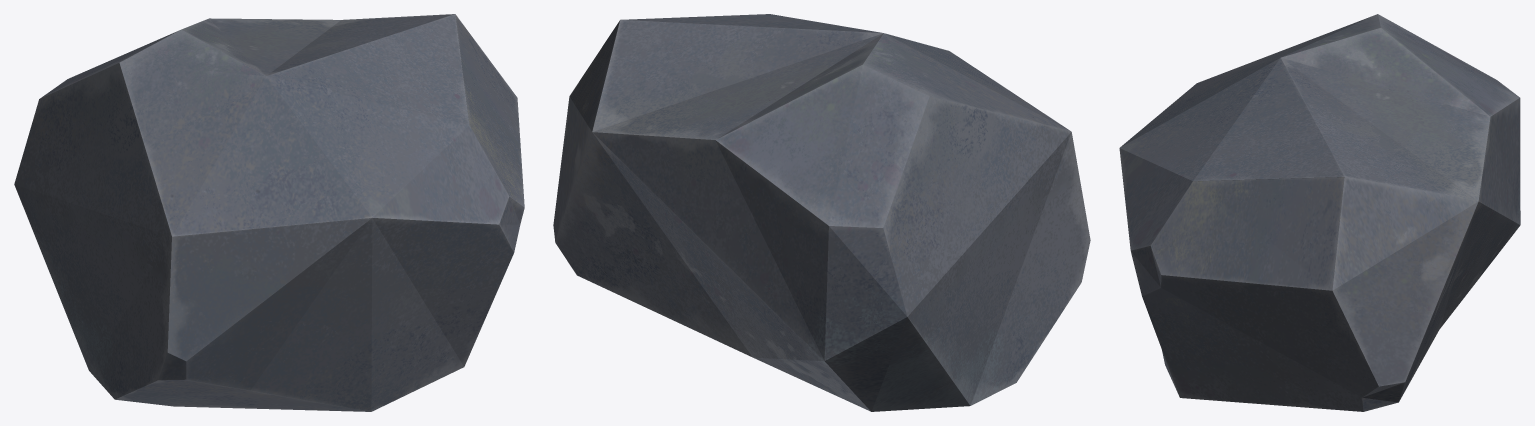
File: Rocas_zona2_3.fbx
The picture shows the model from 3 angles, left to right: view 1: azimuth 30°, elevation 25°; view 2: azimuth 150°, elevation 25°; view 3: azimuth 270°, elevation 25°; orthographic projection. The views are drawn at different scales.
Visible parts, largest first — view 1: stylized_rock_45; view 2: stylized_rock_45; view 3: stylized_rock_45.
Boxes of the visible parts, box(x1,y1,x2,y2) form: stylized_rock_45: box(14, 14, 524, 411); stylized_rock_45: box(553, 14, 1090, 411); stylized_rock_45: box(1119, 14, 1520, 411).
Bounding box in the file's own units: 146 × 109 × 125.
